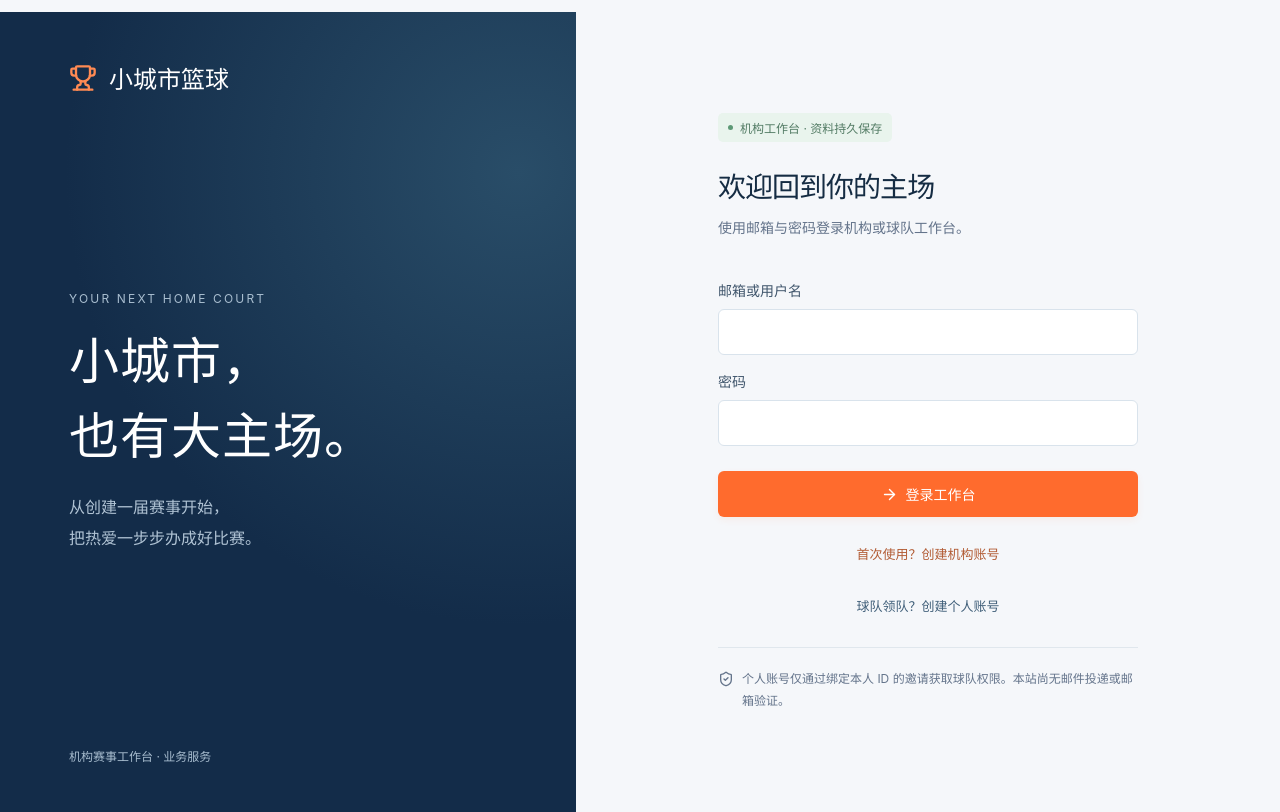
it: API模式登录与机构边界 › 用户名可登录并保留email请求字段
This screenshot has width=1280, height=812.
In the field labelled "邮箱或用户名": coordinates (928, 332) [718,309,1138,355], type "admin_26"
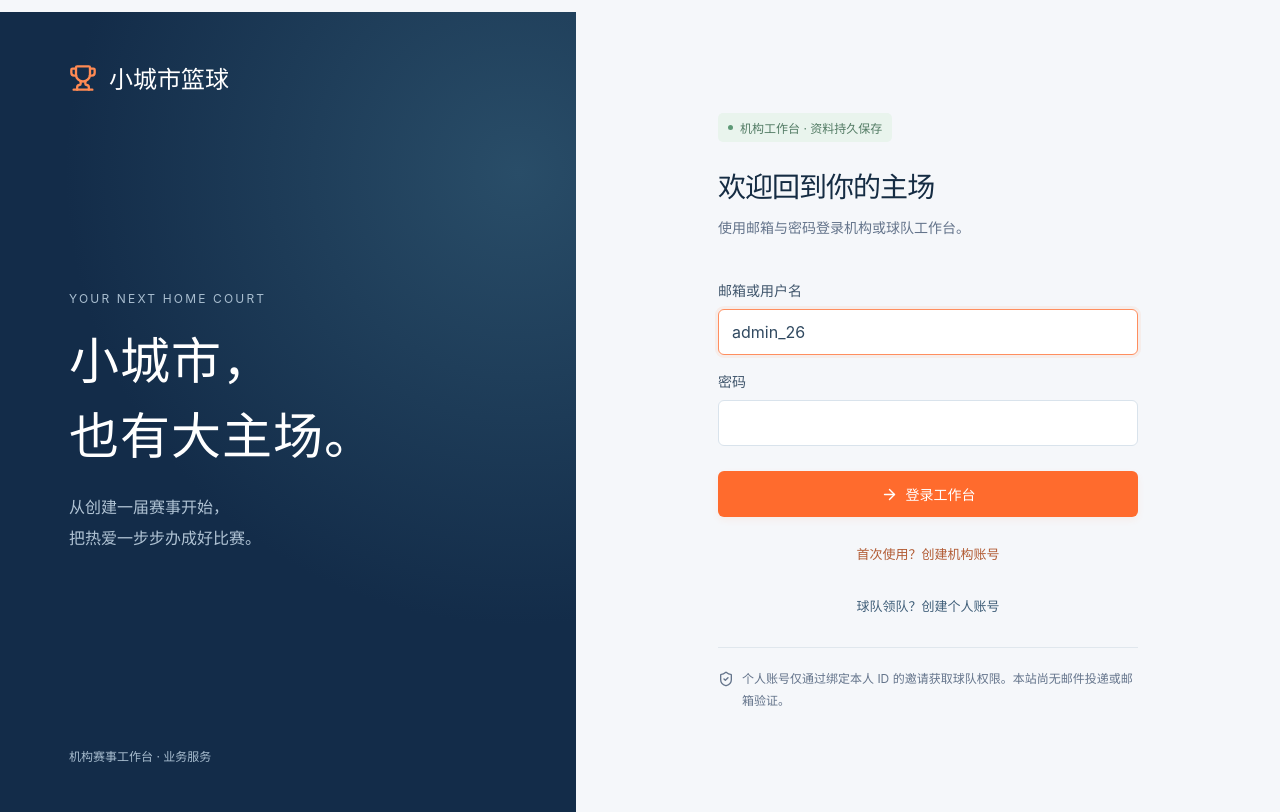
In the password field labelled "密码": coordinates (928, 423) [718,400,1138,446], type "strong-test-password"
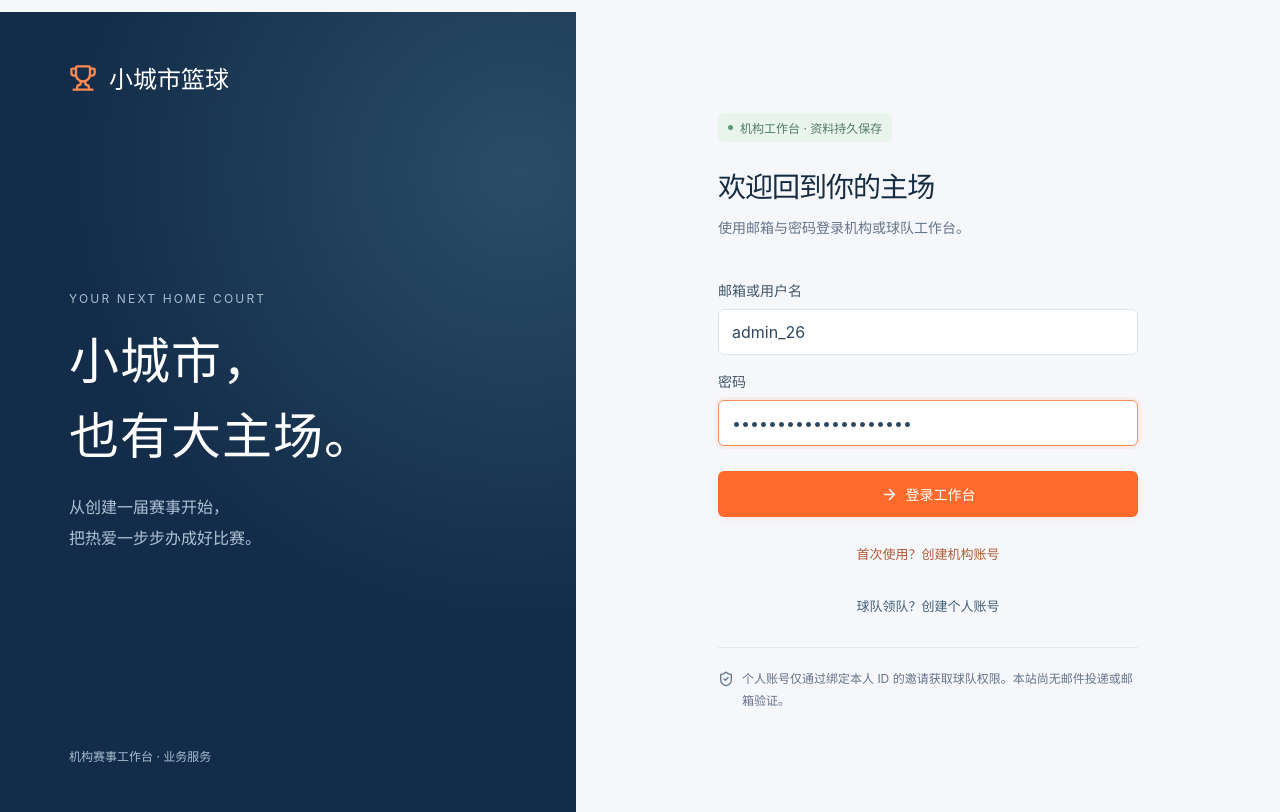
Click the button "登录工作台": coordinates (928, 494) [718,471,1138,517]
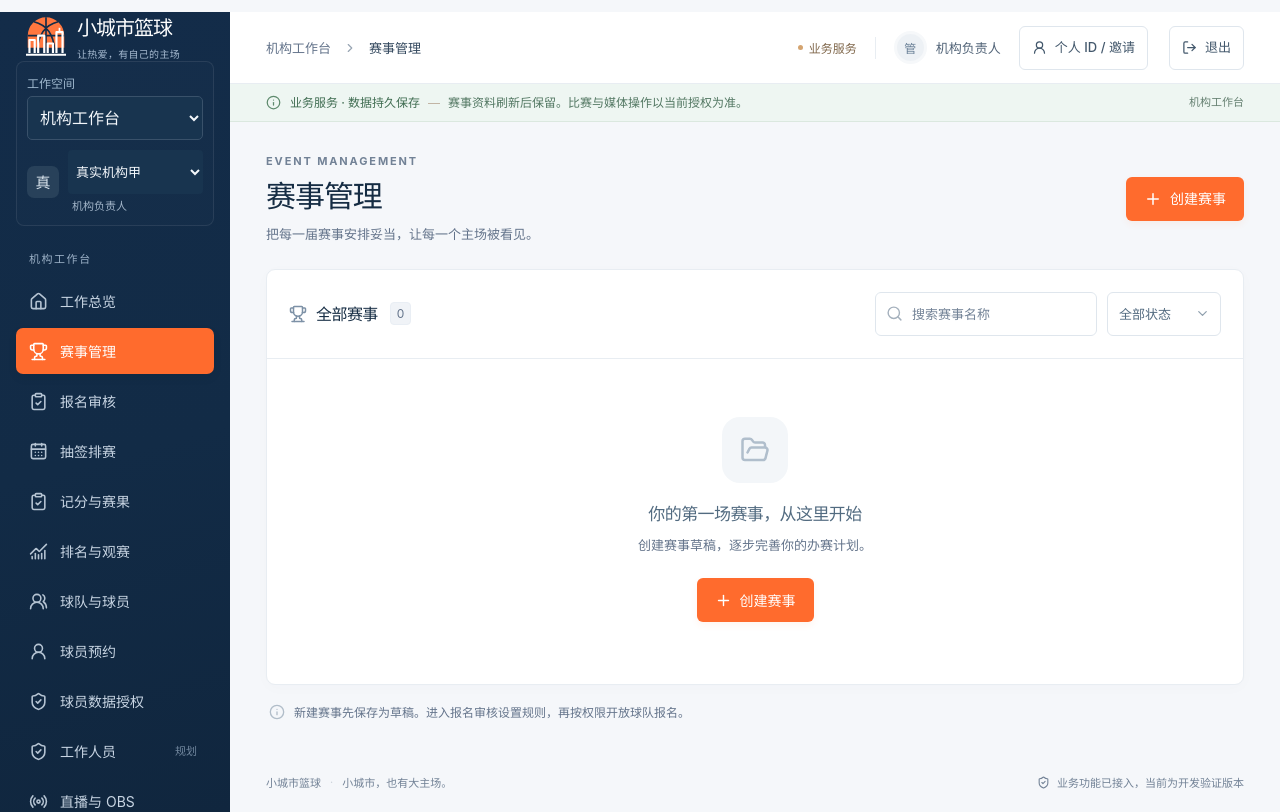
Check: the text "业务服务 · 数据持久保存" is shown, box [290,95,420,110]
